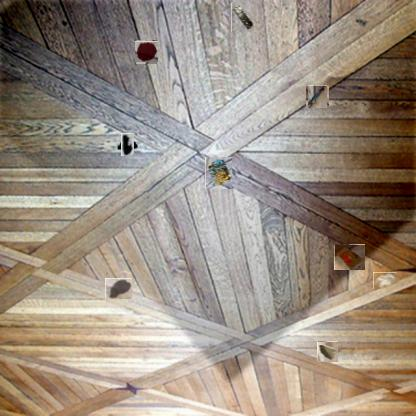dirty: (205, 157, 232, 189), (334, 244, 365, 270), (231, 3, 254, 32), (307, 86, 328, 107), (318, 341, 338, 362), (373, 272, 396, 289), (118, 135, 137, 154)
liquid: (105, 278, 132, 299), (135, 41, 158, 63)
